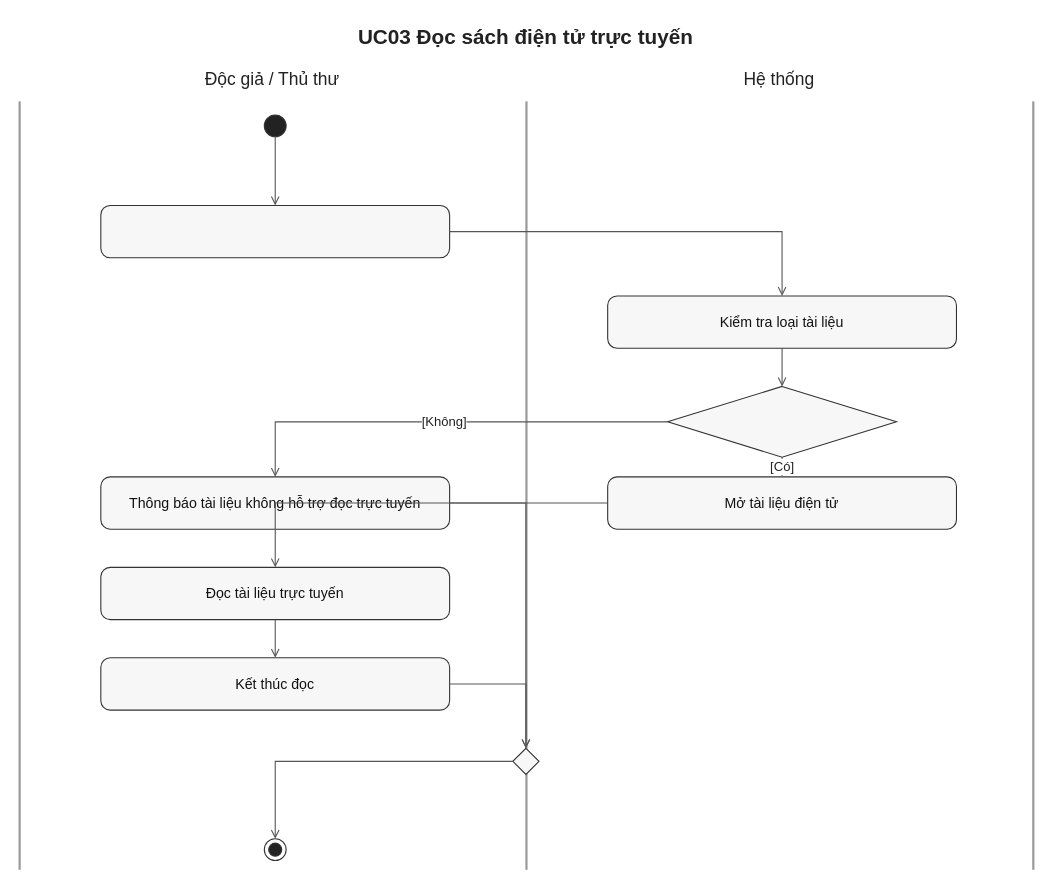
The diagram is 1053 pixels wide and 888 high, and some of its shapes have lost their labels. Each missing label, with the centre of its shape:
"Chọn tài liệu cần đọc" belongs at point (275, 231).
"Là tài liệu điện tử?" belongs at point (782, 421).
